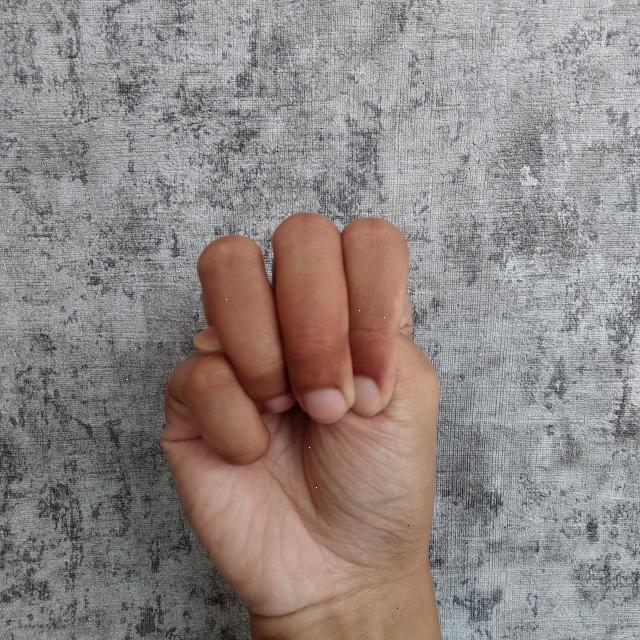M: (153, 200, 449, 640)
